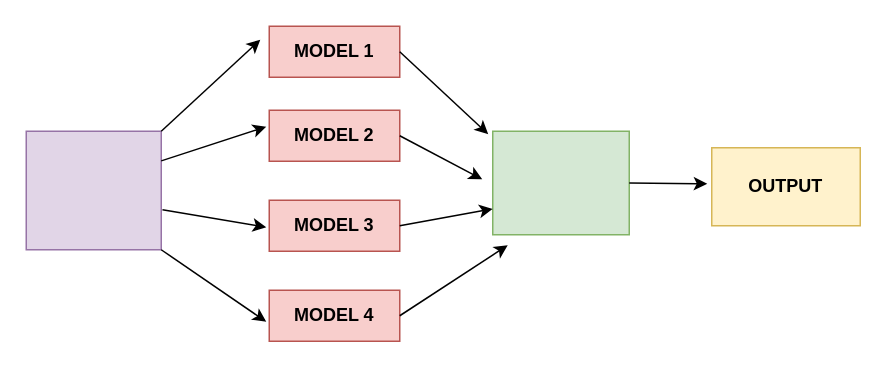
The diagram is 887 pixels wide and 368 high, and some of its shapes have lost their labels. The shapes that lost their labels are listed below. From the top down, each one's box as (x1, y1, x2, y2) in pixels, then its label:
(25, 130, 161, 250): TRAIN DATA
(491, 130, 629, 235): META MODEL
